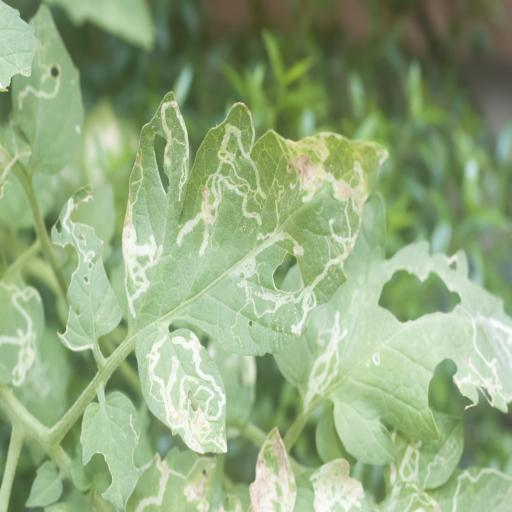disease_tomato: (122, 87, 392, 457)
